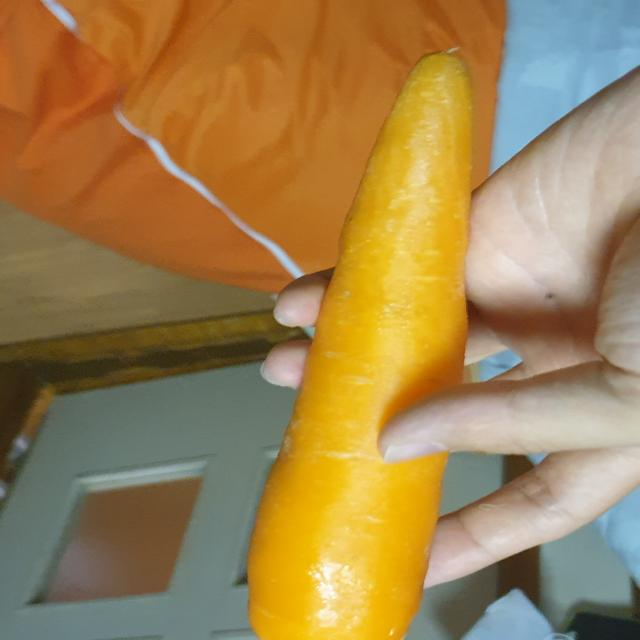carrot: (236, 35, 487, 640)
